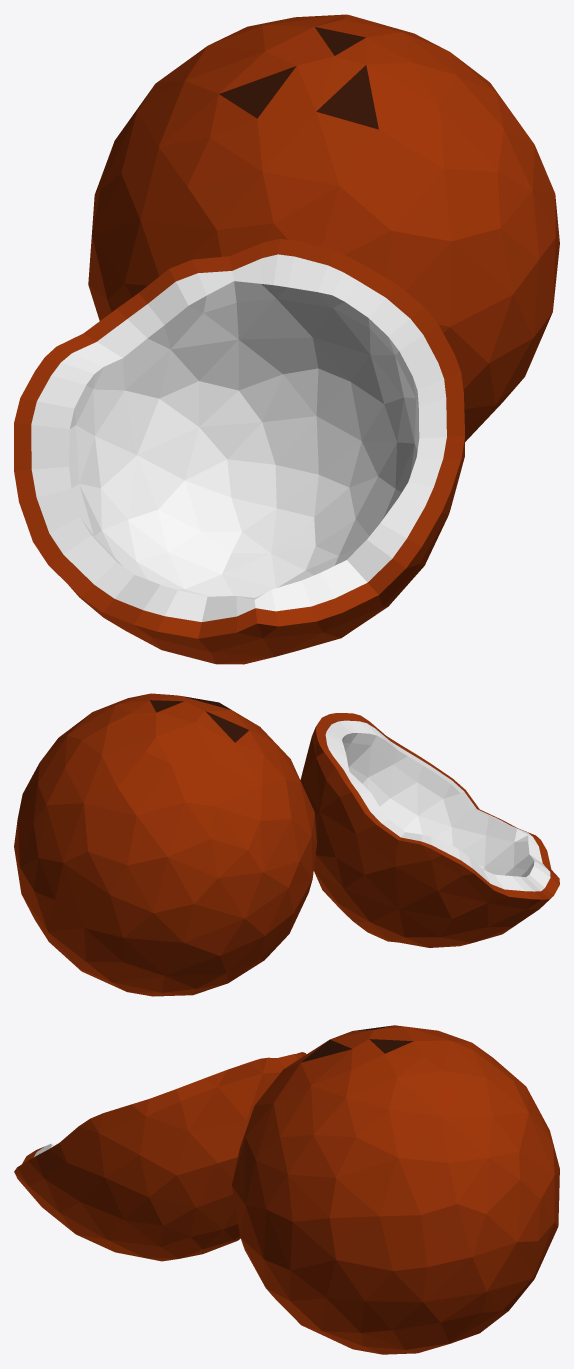
File: Coconut.fbx
The picture shows the model from 3 angles, top to bottom: view 1: azimuth 30°, elevation 25°; view 2: azimuth 150°, elevation 25°; view 3: azimuth 270°, elevation 25°; orthographic projection. The views are drawn at different scales.
Parts seen in each view (by area): view 1: Coconut; view 2: Coconut; view 3: Coconut.
Part boxes in pixels (box(x1,y1,x2,y2)): Coconut: box(14, 14, 559, 664); Coconut: box(14, 693, 559, 996); Coconut: box(14, 1025, 559, 1354).
Size of the model in its own units: 0.8022 by 0.5154 by 0.8563.
